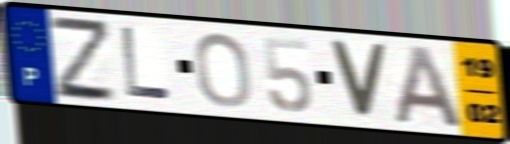5: (260, 34, 314, 115)
A: (391, 43, 468, 131)
L: (119, 24, 174, 103)
O: (192, 30, 255, 110)
V: (325, 37, 391, 123)
Z: (45, 12, 121, 104)
